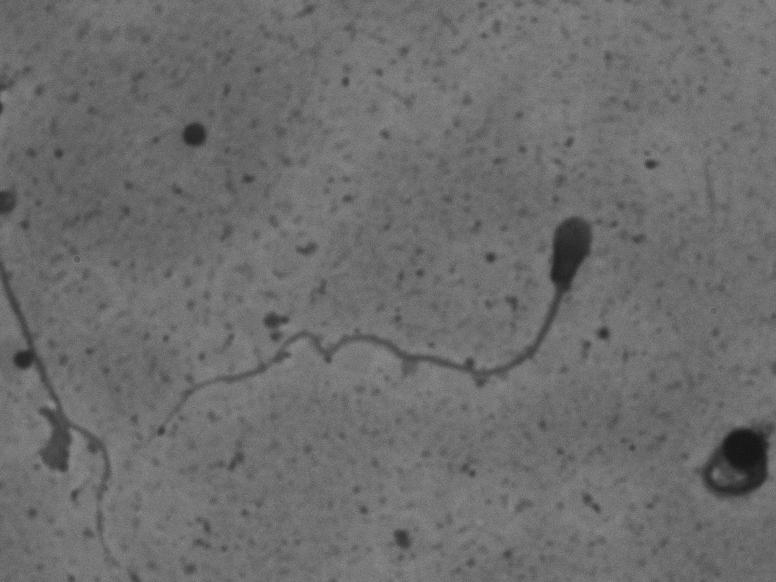Abnormal: (139, 201, 613, 465)
